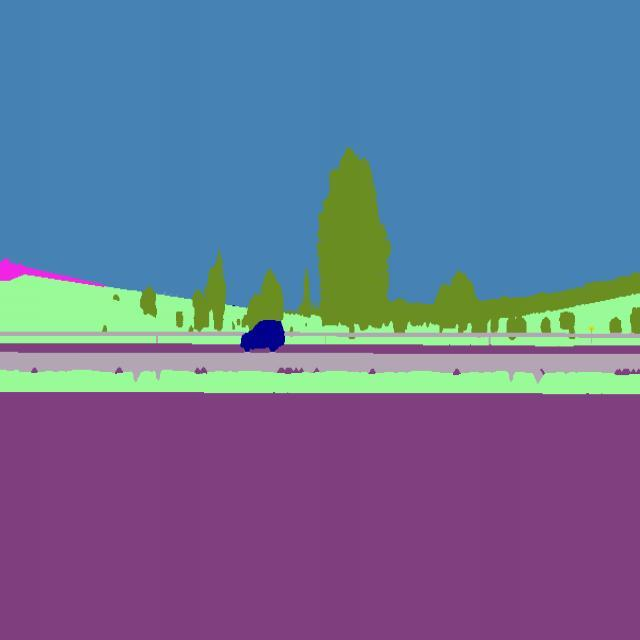safe: (239, 317, 287, 352)
